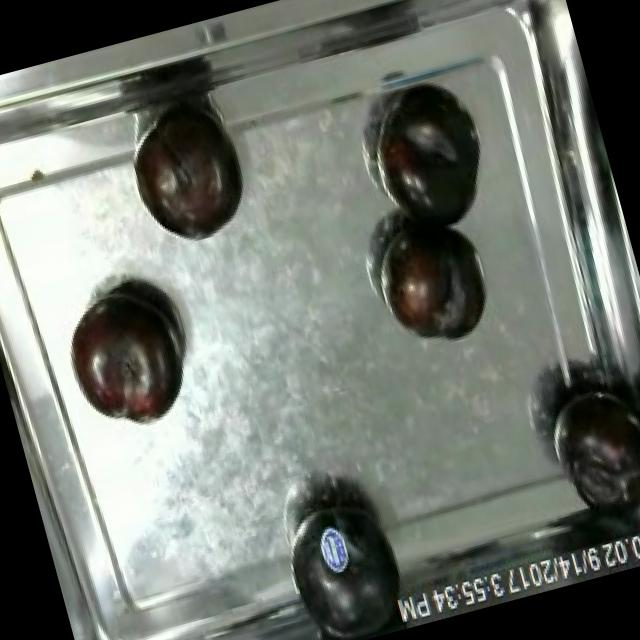Fruit: (51, 269, 202, 443), (275, 477, 426, 640), (361, 87, 507, 251), (120, 104, 260, 257), (367, 205, 503, 358), (538, 375, 640, 522)
